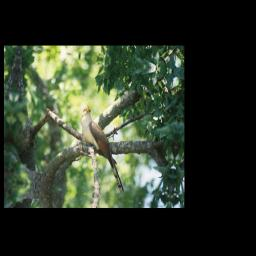Cuckoo: (72, 104, 135, 195)
